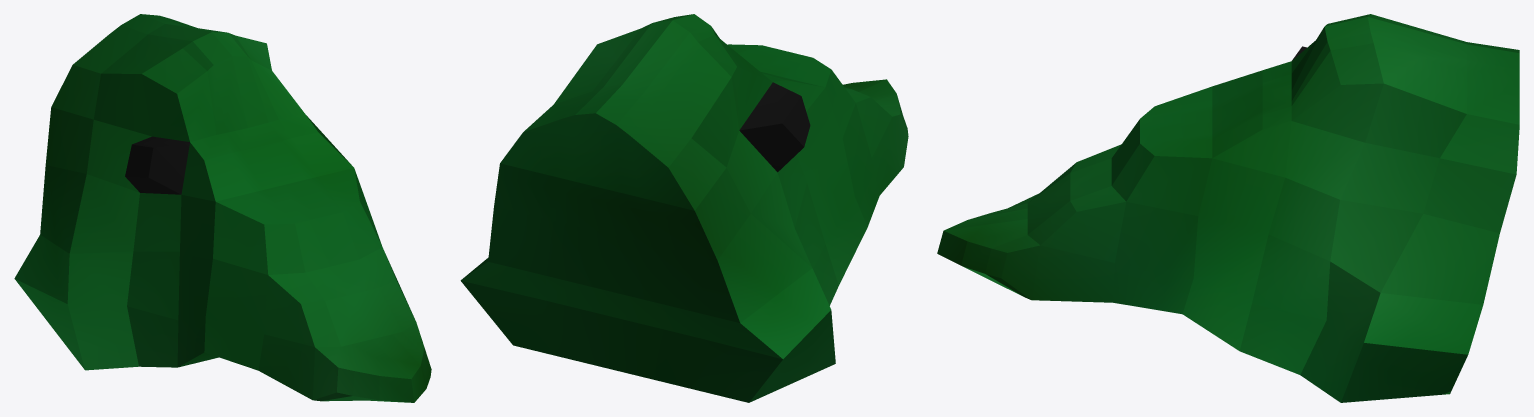
File: witchnose.fbx
The picture shows the model from 3 angles, left to right: view 1: azimuth 30°, elevation 25°; view 2: azimuth 150°, elevation 25°; view 3: azimuth 270°, elevation 25°; orthographic projection. The views are drawn at different scales.
Parts seen in each view (by area): view 1: witchnose; view 2: witchnose; view 3: witchnose.
Part boxes in pixels (left/top/right/bottom): witchnose: left=14, top=14, right=431, bottom=402; witchnose: left=460, top=14, right=908, bottom=402; witchnose: left=937, top=14, right=1519, bottom=402.
Bounding box in the file's own units: 5.87 × 5.62 × 9.27.
